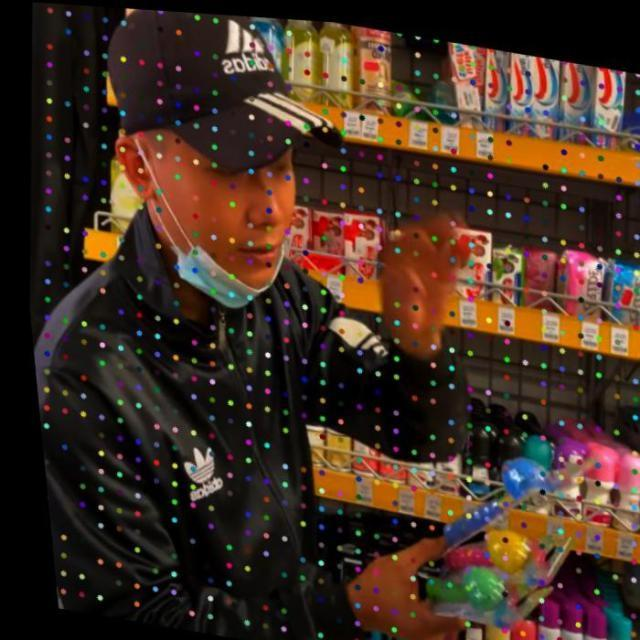hairnet: (154, 138, 304, 311)
